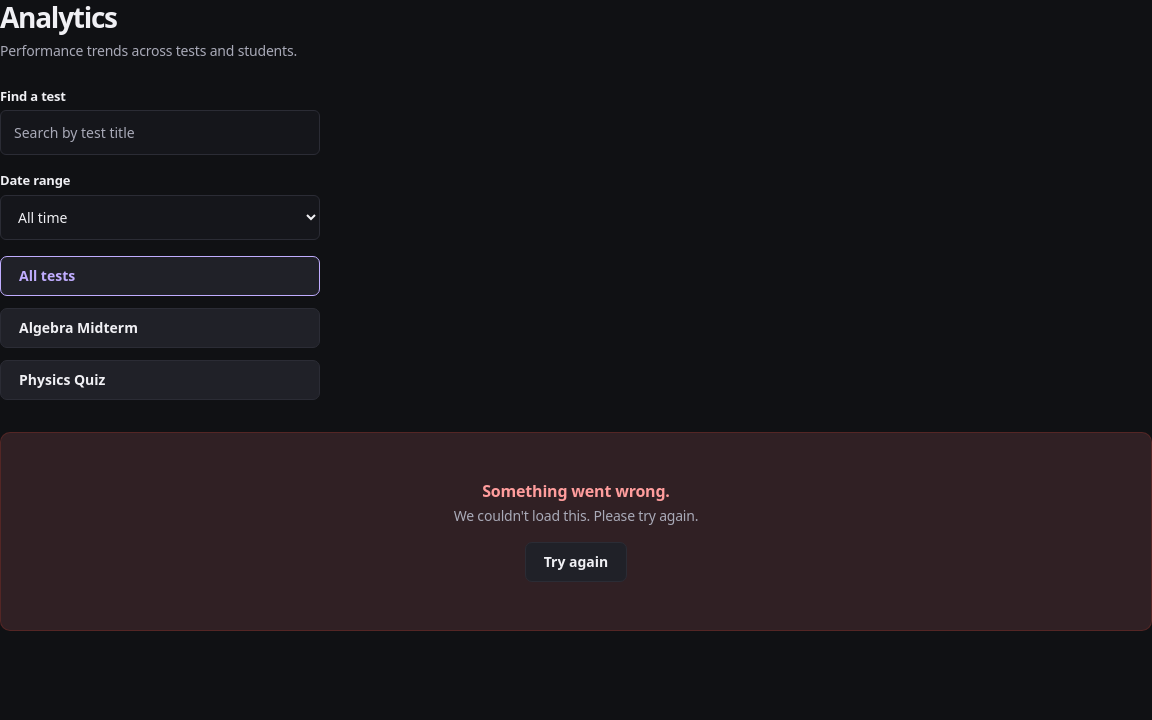
Test: Analytics › keeps the test filter rendered when analytics fails, and retry reloads
Expected: the field labelled "Find a test" is shown, [0, 110, 320, 155]
Click the button "Try again" at [576, 562], box [525, 542, 627, 582]
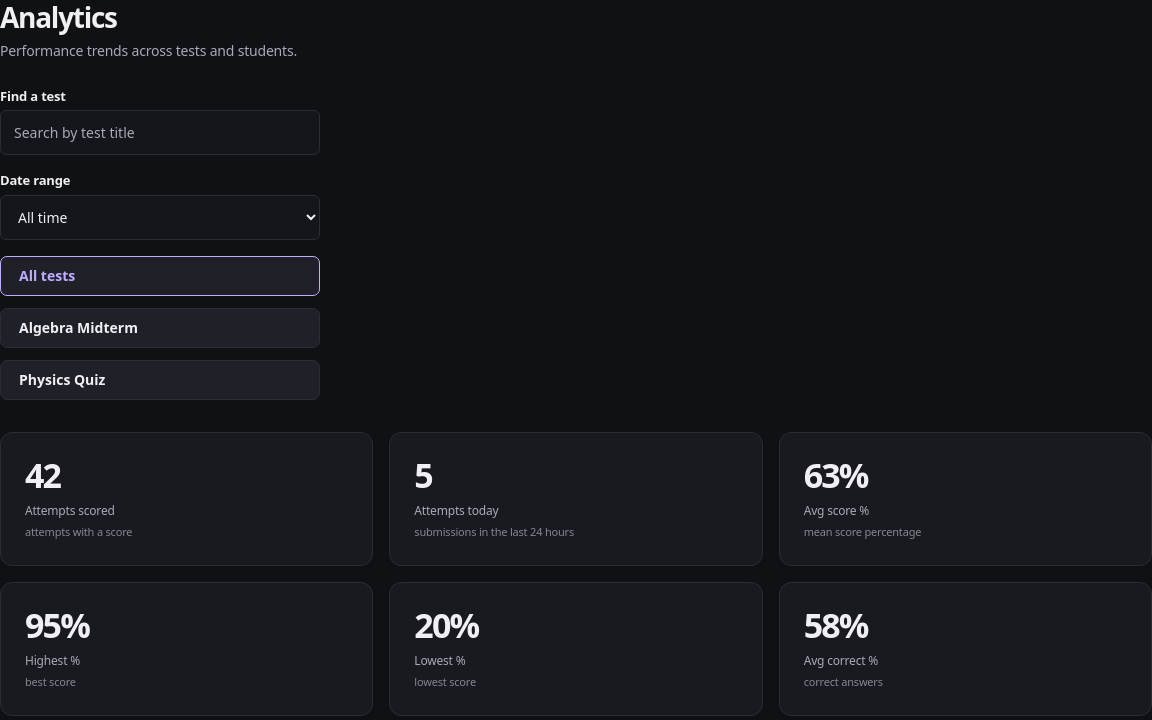
Expected: the text "Attempts scored" is shown, [25, 502, 115, 519]
